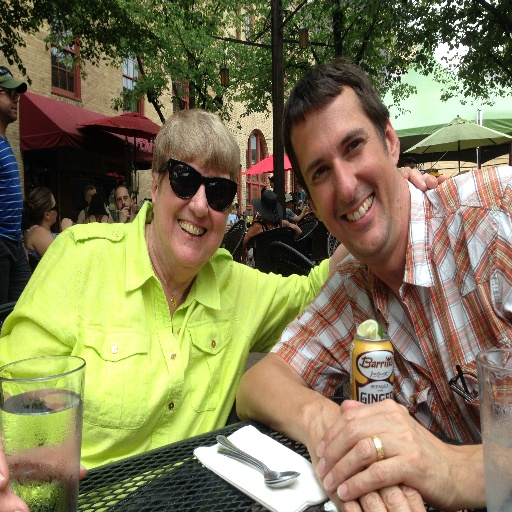hand: (300, 399, 428, 511), (0, 407, 87, 511), (399, 163, 448, 192), (116, 204, 130, 222), (60, 216, 72, 231), (225, 218, 234, 234), (300, 204, 310, 217)
